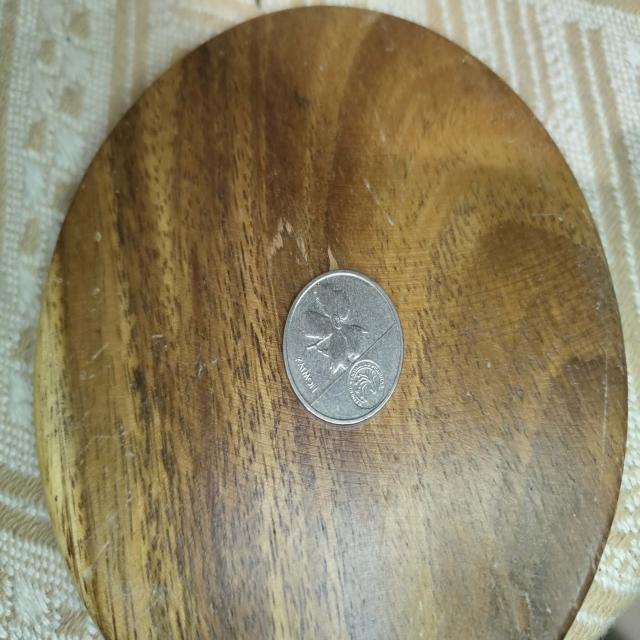25 cents: (280, 263, 408, 435)
